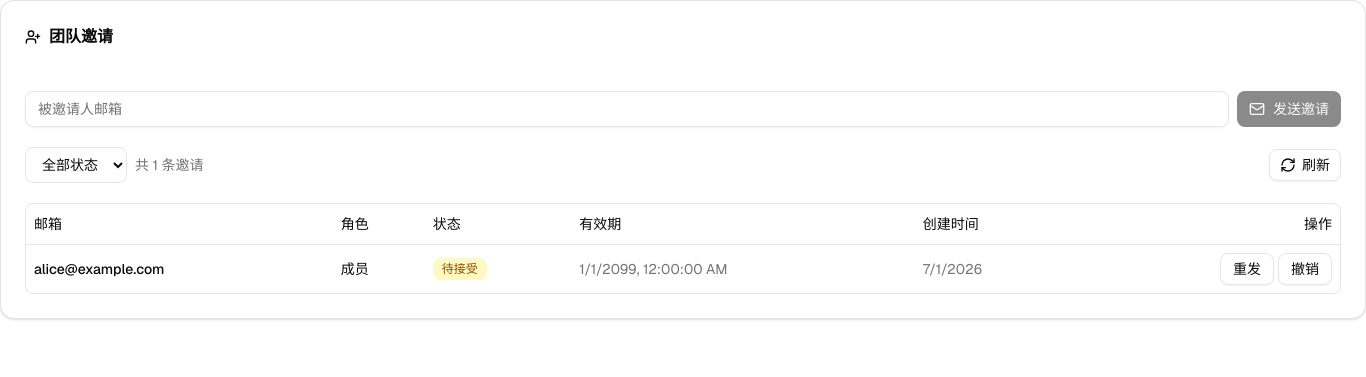
Test: InvitationsManager - 撤销与重发 › 重发：POST /api/invitations/:id/resend，成功后显示刷新提示并刷新列表
The width and height of the screenshot is (1366, 377).
Expected: the text "alice@example.com" is shown, left=26, top=244, right=333, bottom=292
Click the button "重发". click: x=1247, y=268
box: left=1220, top=252, right=1274, bottom=284
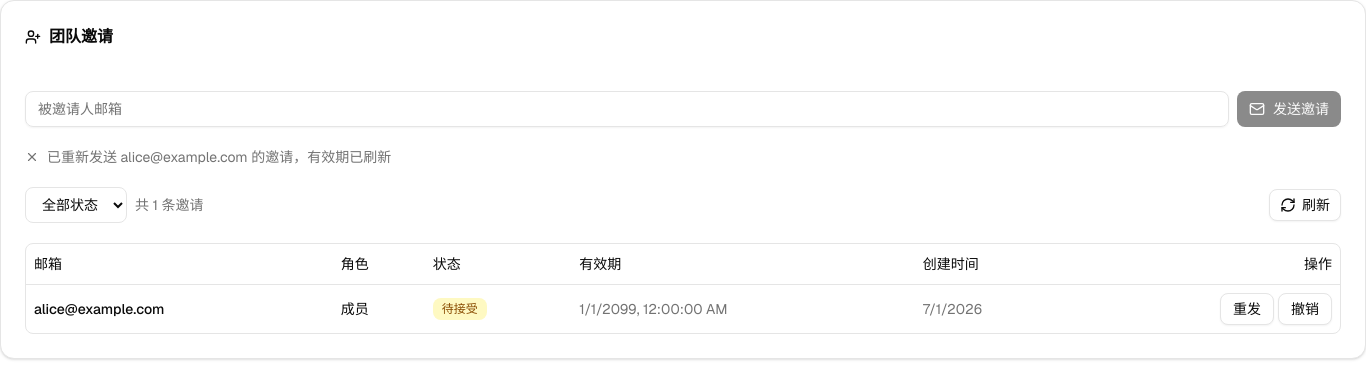
Result: the text "已重新发送 alice@example.com 的邀请，有效期已刷新" is shown at left=25, top=148, right=391, bottom=166
